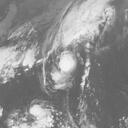cyclone: (55, 48, 78, 77)
